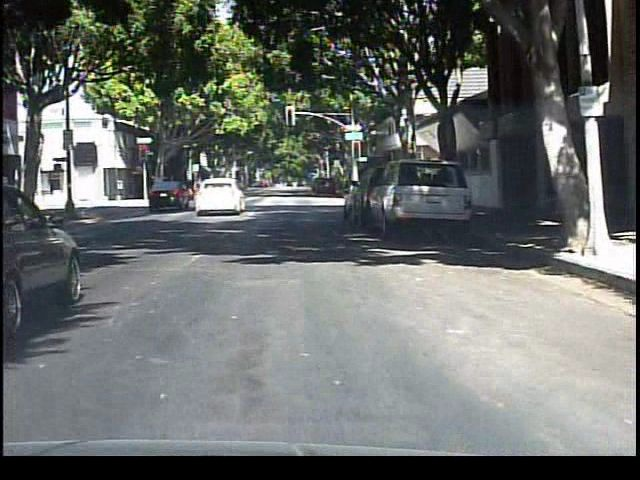person: (189, 170, 213, 213)
